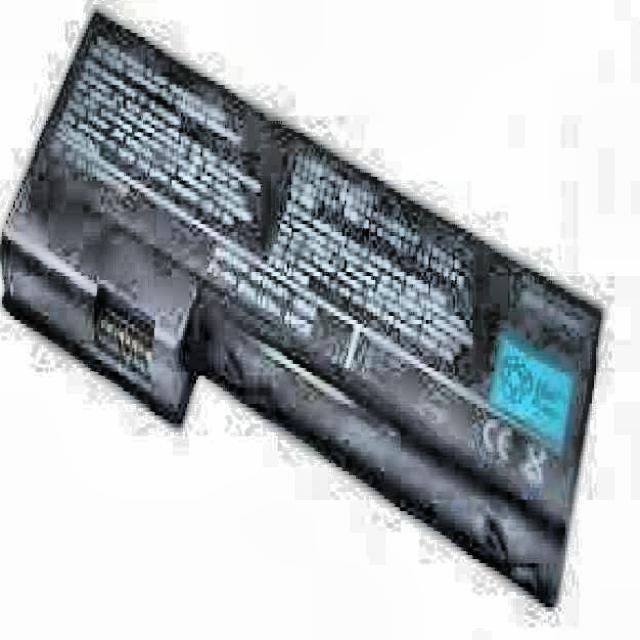battery: (2, 9, 601, 612)
